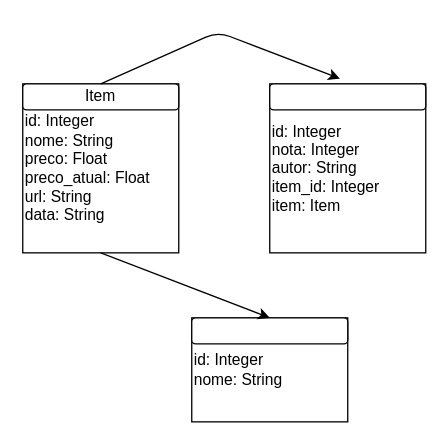
The diagram is 448 pixels wide and 445 high, and some of its shapes have lost their labels. Here are the shapes that lost their labels. From the top down, the centre of each, then its label:
At [347,96]: "Ranking".
At [269,330]: "Jogo".
